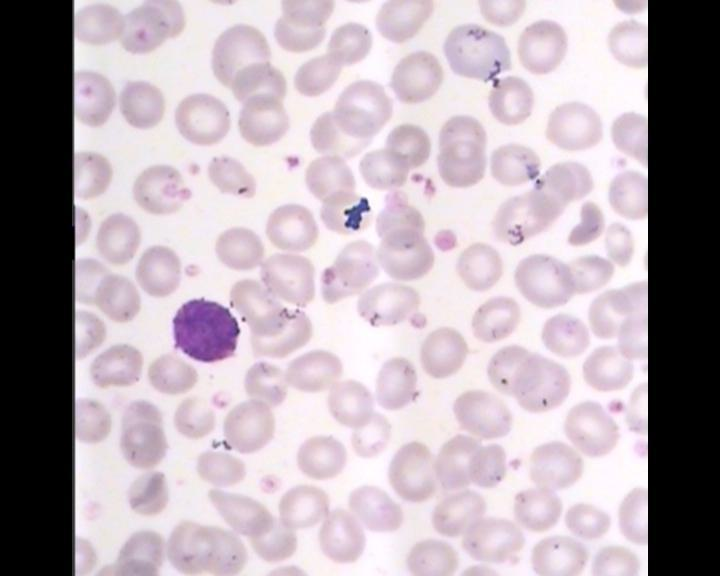baso: (167, 292, 247, 366)
